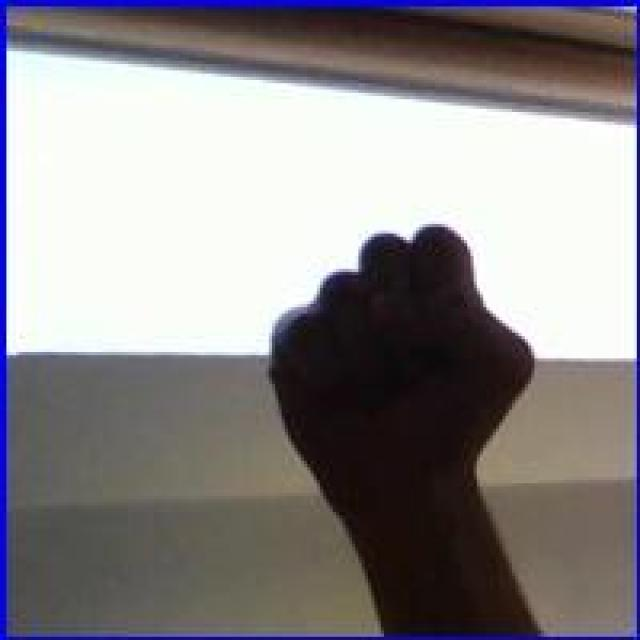S: (258, 223, 539, 482)
